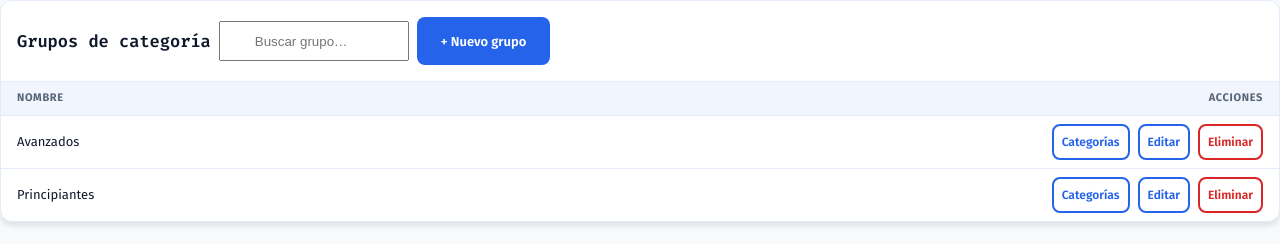
Test case: GruposCategoriaPageComponent › sin resultados de búsqueda muestra el vacío correspondiente
Type "zzz" into the search field with id "grupos-q" at {"x": 314, "y": 41}, box [219,21,409,61]
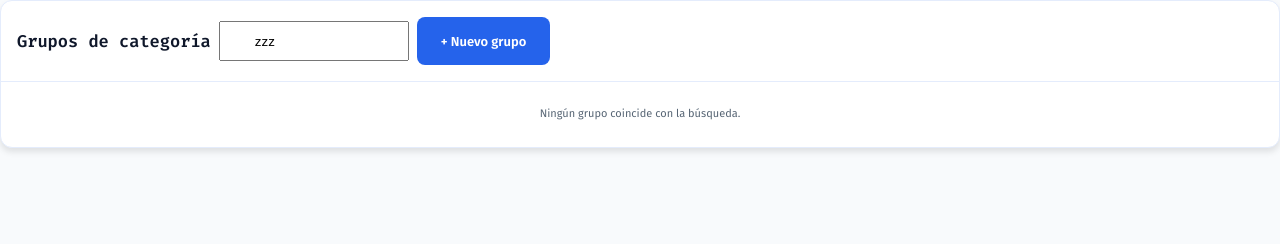
Result: the text with class "a-empty" shows "Ningún grupo coincide" at [540,107,740,120]
